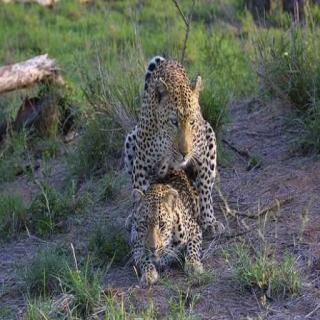Leopard: (102, 43, 243, 223), (117, 177, 210, 286)
